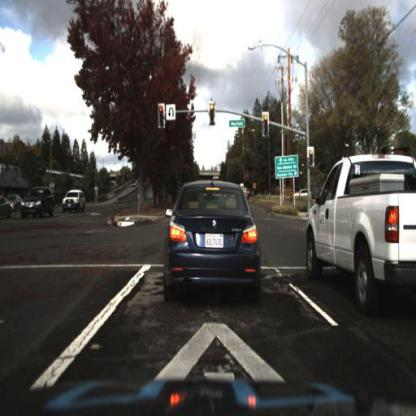car: (305, 152, 416, 316), (164, 178, 262, 305), (18, 186, 53, 219), (62, 189, 87, 213), (293, 187, 316, 203), (1, 195, 13, 221), (130, 179, 141, 189)
trafficLight-Red: (260, 110, 271, 141), (306, 144, 317, 173), (209, 101, 218, 127), (307, 148, 315, 169)
trafficLight-RedLeft: (157, 100, 167, 134), (158, 104, 166, 130)
